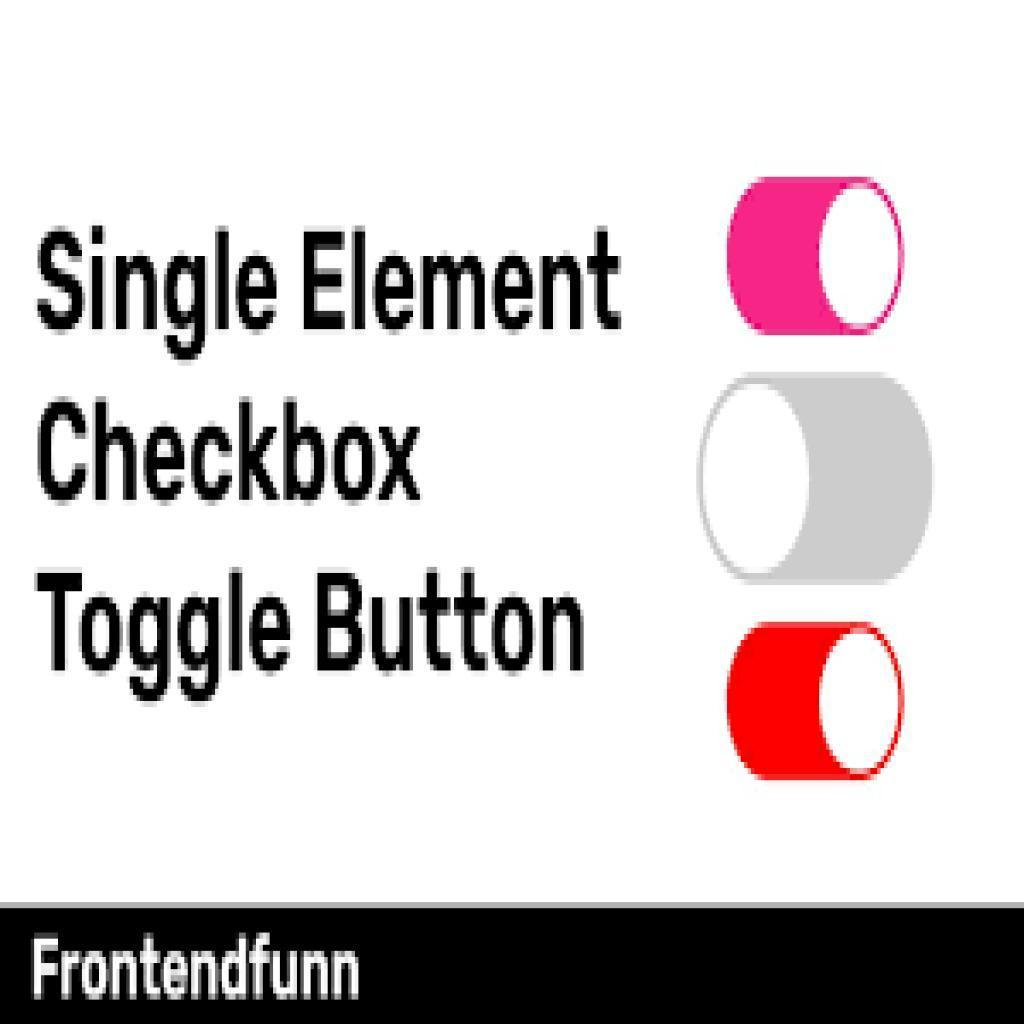switch: (703, 371, 934, 587), (730, 176, 905, 334), (732, 625, 906, 780)
